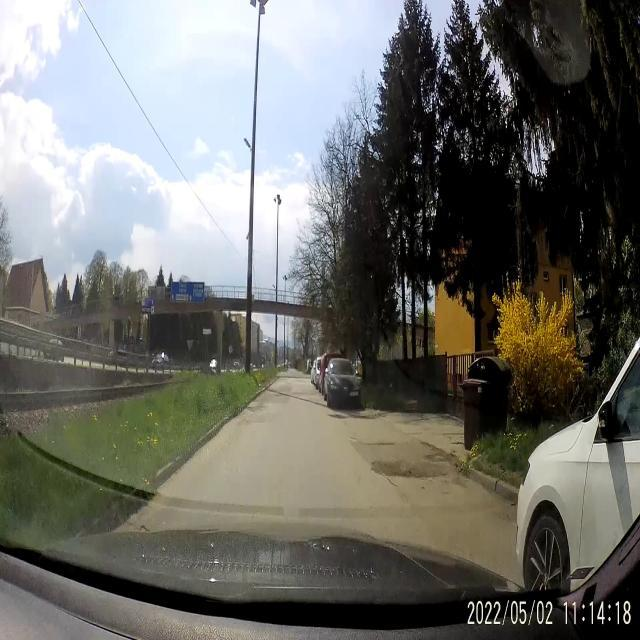Pothole: (369, 453, 426, 489), (245, 404, 268, 414)
